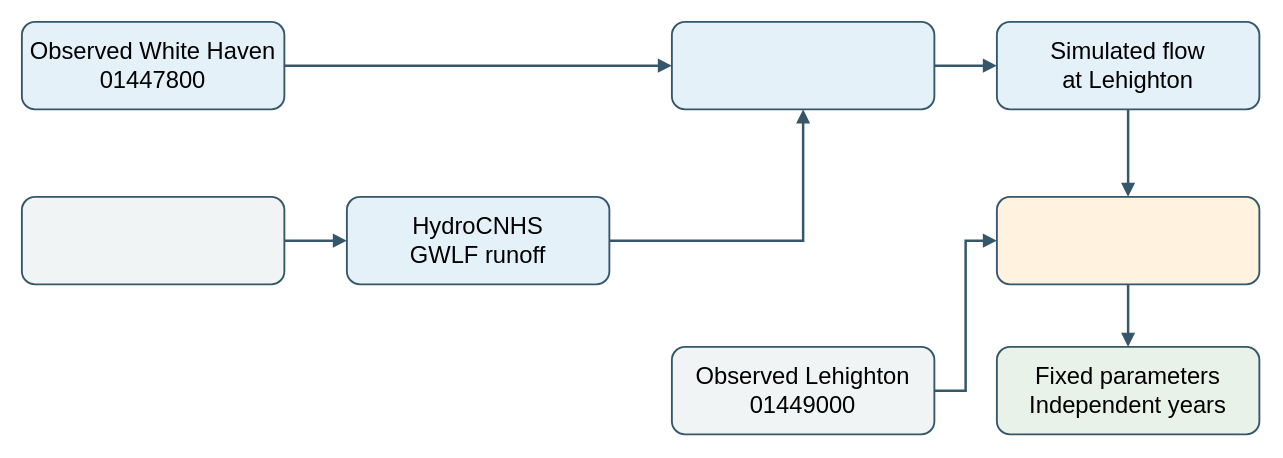
The diagram is 1283 pixels wide and 458 high, and some of its shapes have lost their labels. The centre of each missing label's shape, as x and y in pixels:
"Compare daily flows" goes at point 1127,240.
"HydroCNHS Lohmann routing" goes at point 802,65.
"Lower watershed P, T and PET" goes at point 152,240.
